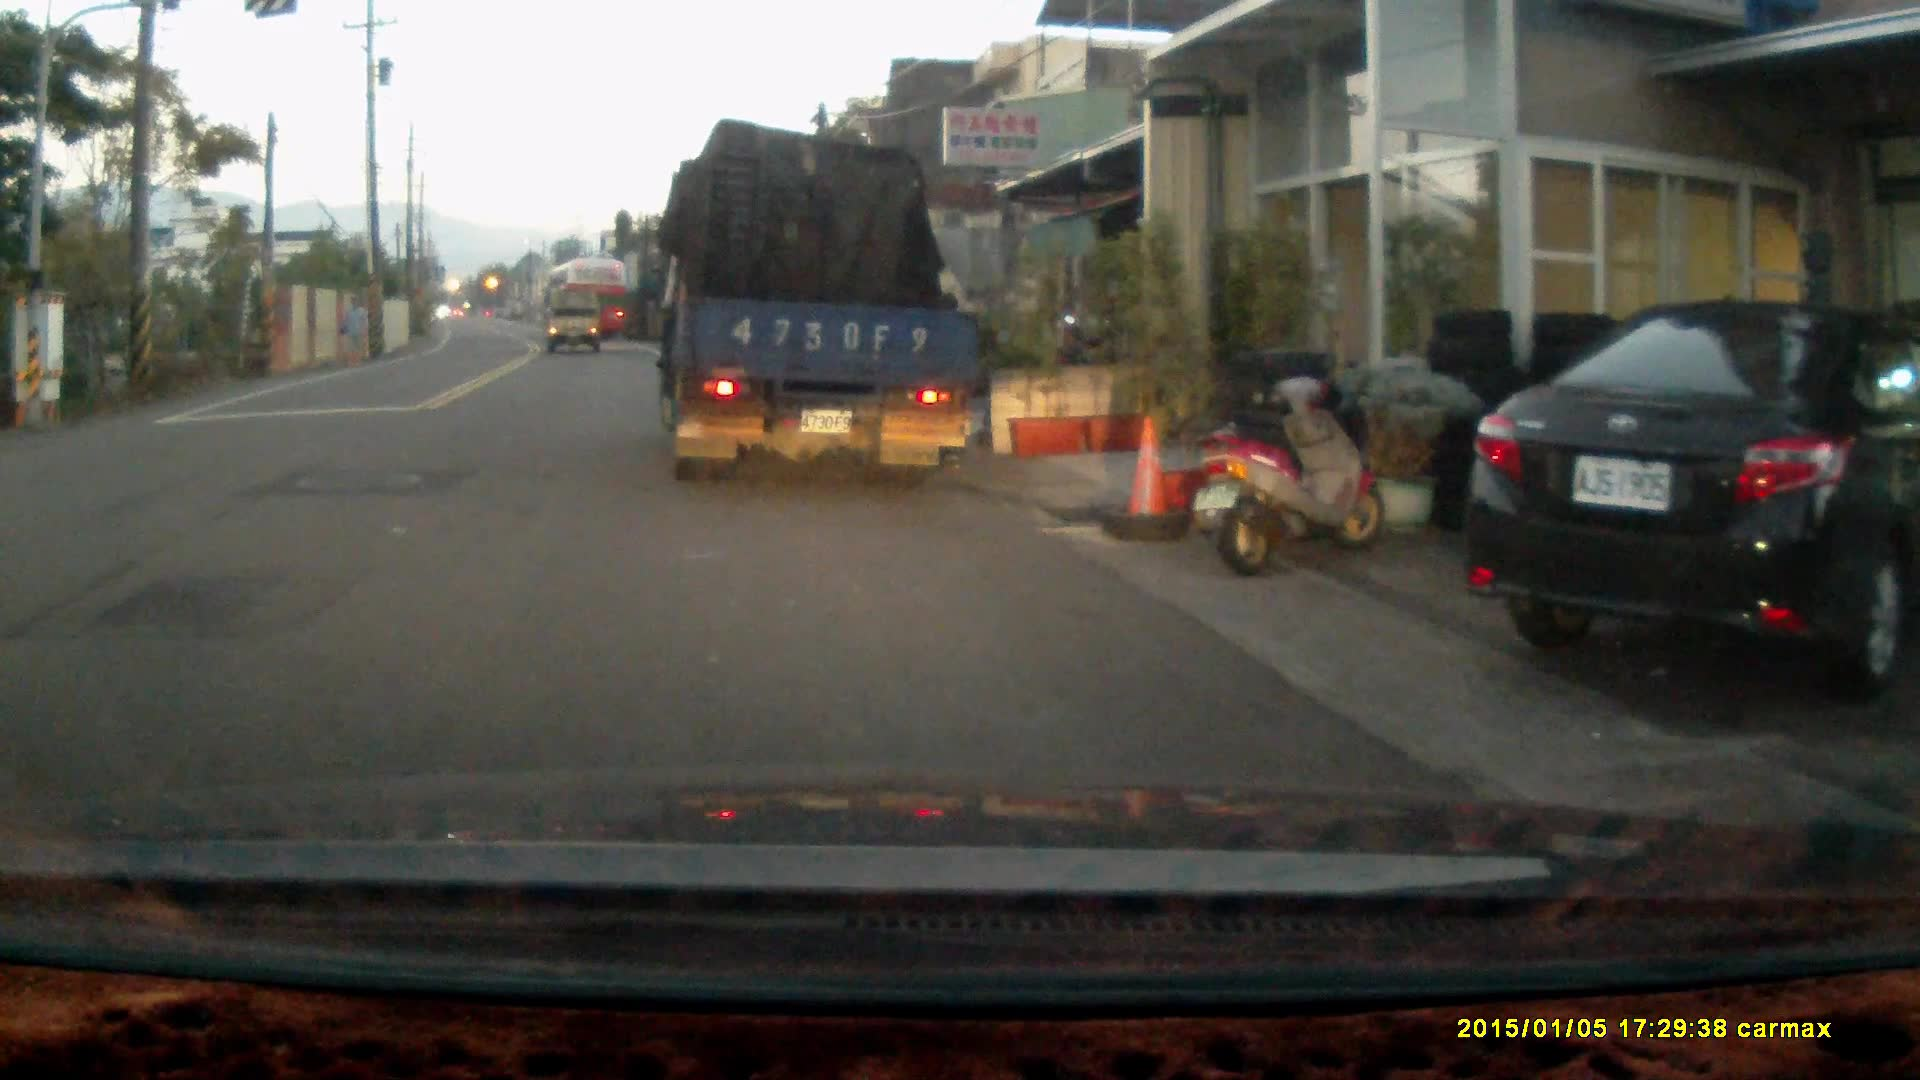pedestrian: (335, 294, 370, 366)
vehicle: (1470, 301, 1919, 704), (659, 126, 981, 495), (539, 260, 626, 338), (547, 284, 604, 358)
